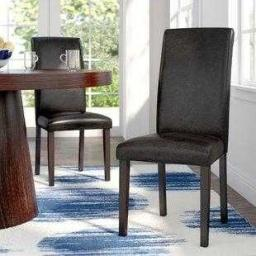Chair: (119, 28, 229, 246), (30, 37, 110, 183)
